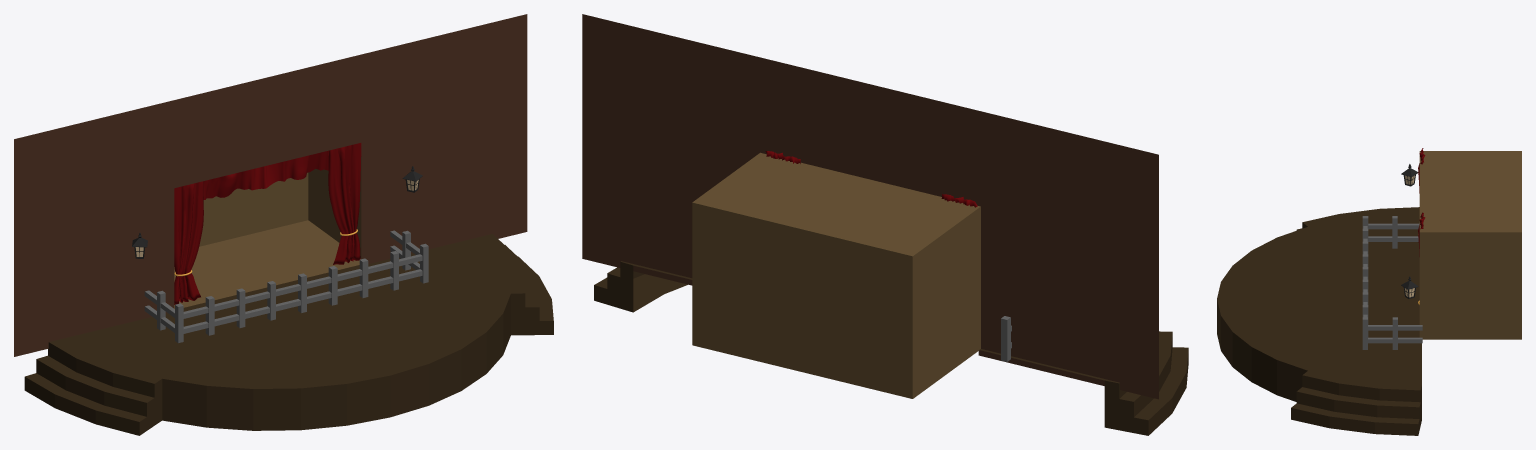
Rendered from Buehne.fbx.
3 renders of one model, left to right at view 1: azimuth 30°, elevation 25°; view 2: azimuth 150°, elevation 25°; view 3: azimuth 270°, elevation 25°, orthographic. The views are drawn at different scales.
Visible parts, largest first — view 1: Plane.004, stage, Cube.004, zaun, Plane.001, Plane, Plane.002, zaun.002, zaun.001, lantern2; view 2: Plane.004, Cube.004, stage; view 3: stage, Cube.004, zaun.002, zaun.001, zaun, lantern2.
Part boxes in pixels (box(x1,y1,x2,y2)): Plane.004: box(14, 14, 527, 356); stage: box(24, 234, 553, 435); Cube.004: box(174, 157, 361, 308); zaun: box(175, 251, 422, 343); Plane.001: box(328, 143, 361, 264); Plane: box(174, 181, 203, 304); Plane.002: box(203, 150, 328, 199); zaun.002: box(390, 230, 428, 283); zaun.001: box(144, 290, 174, 332); lantern2: box(132, 166, 422, 258); Plane.004: box(582, 14, 1158, 399); Cube.004: box(692, 152, 980, 398); stage: box(594, 261, 1188, 435); stage: box(1217, 207, 1421, 435); Cube.004: box(1419, 151, 1521, 339); zaun.002: box(1362, 317, 1422, 349); zaun.001: box(1368, 216, 1419, 248); zaun: box(1362, 216, 1368, 337); lantern2: box(1401, 164, 1418, 298).
Size of the model in its own units: 979 by 461 by 595.
